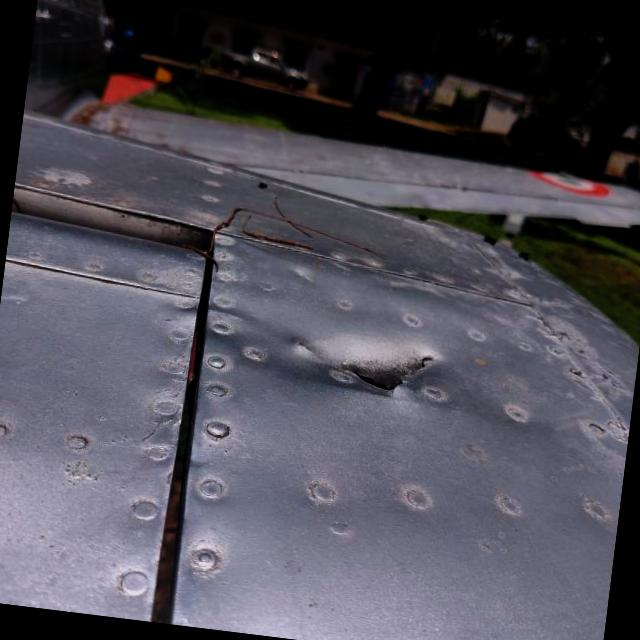crack: (300, 311, 454, 426)
